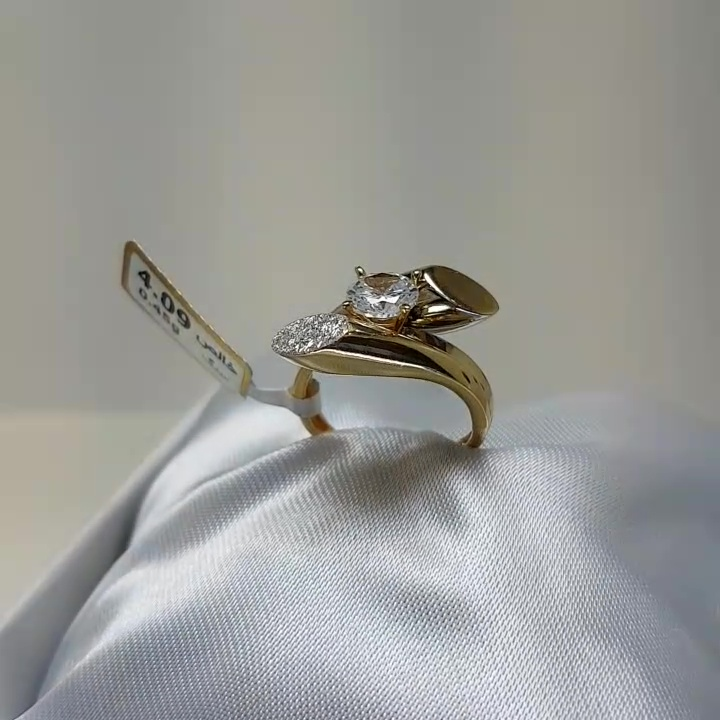Ring 7: (229, 243, 516, 481)
